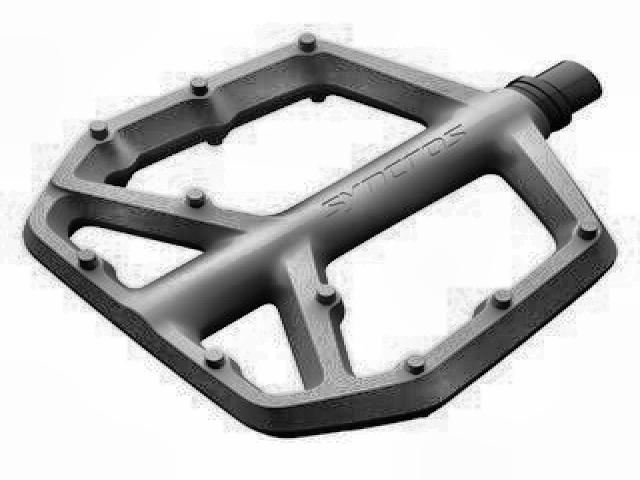pedal: (17, 24, 619, 443)
